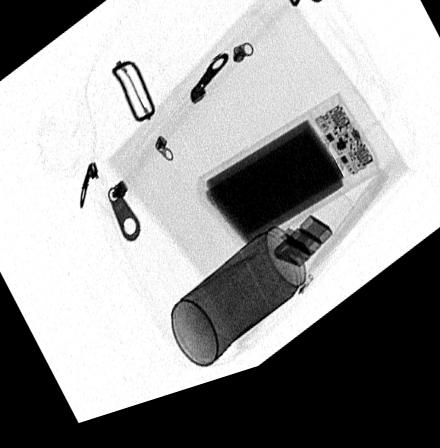Powerbank: (198, 112, 377, 269)
